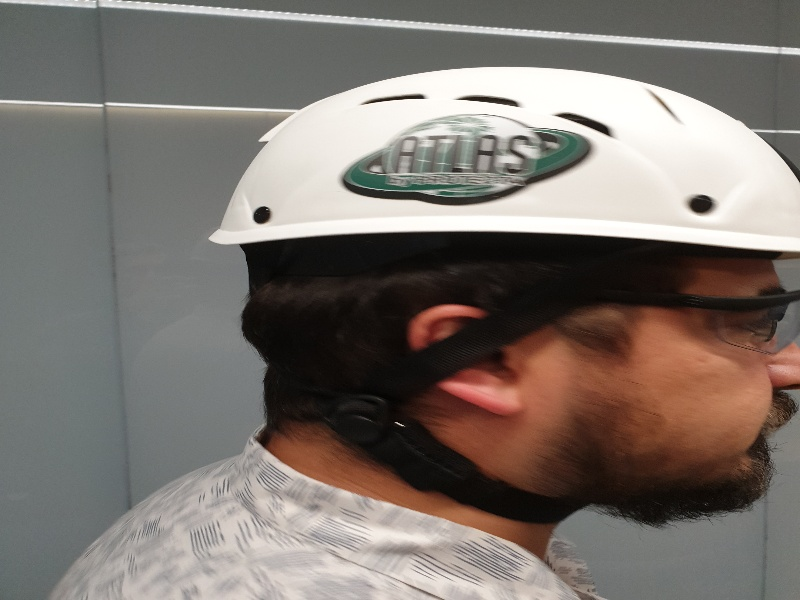Baret: (207, 68, 800, 255)
Gozluk: (611, 288, 800, 363)
